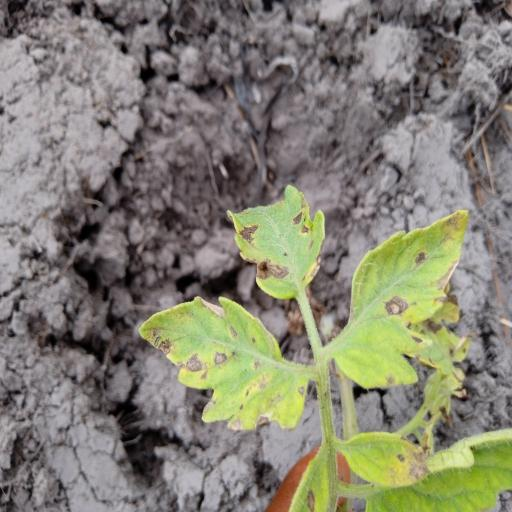Tomato_Brown_Spots: (333, 204, 480, 394), (136, 294, 314, 438), (230, 183, 328, 302)
